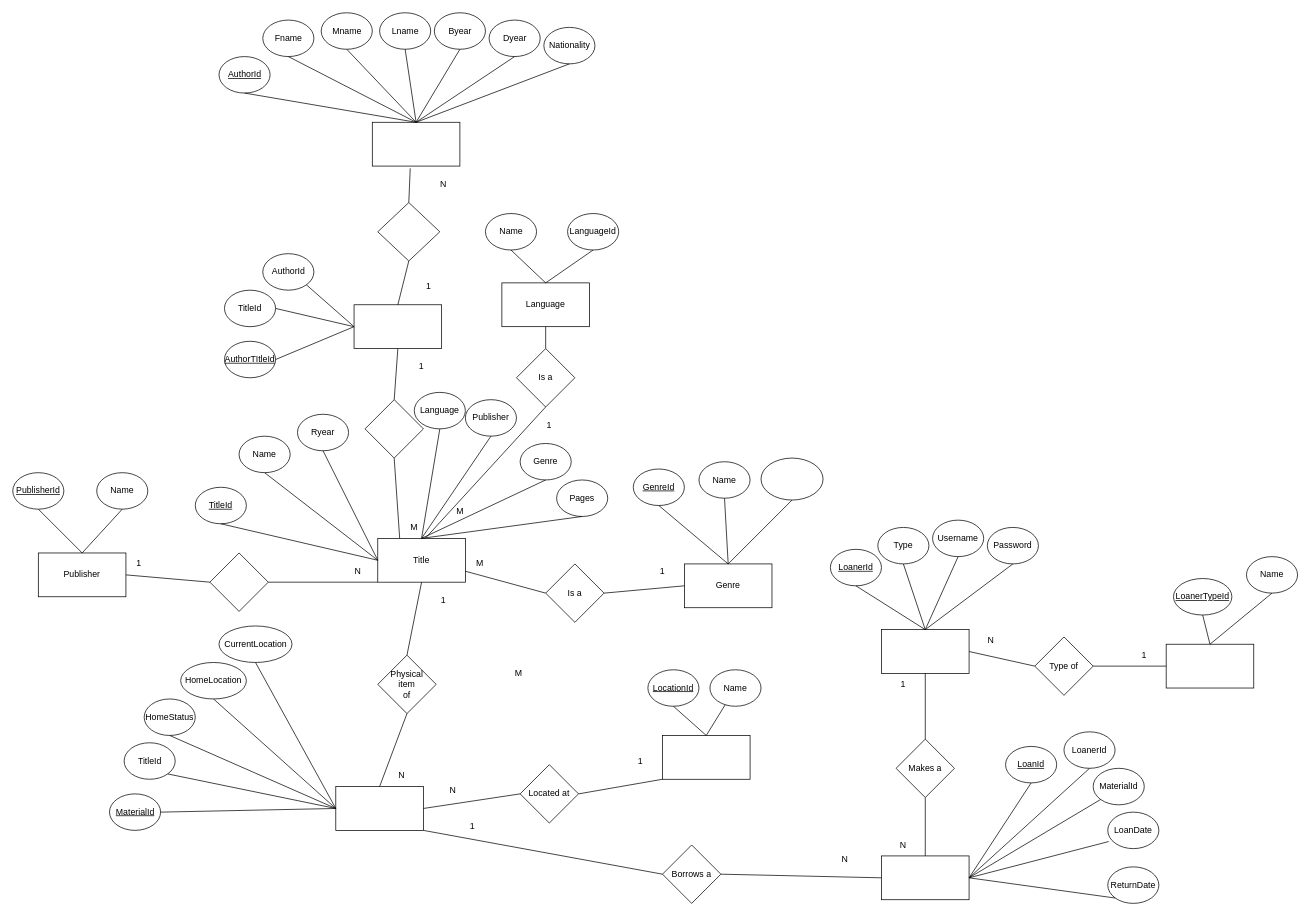
Image size: 1310x916. Some labels were removed from this diagram. Each missing label, with the box of its shape:
Author: (372, 122, 460, 166)
AuthorTitle: (353, 304, 442, 349)
LeasePeriode: (760, 457, 823, 500)
Loan: (881, 855, 969, 900)
Loaner: (881, 629, 969, 673)
LoanerType: (1165, 643, 1254, 688)
Location: (662, 735, 750, 779)
Material: (335, 786, 423, 830)
Printed by: (209, 552, 268, 611)
Writes: (364, 399, 423, 458)
